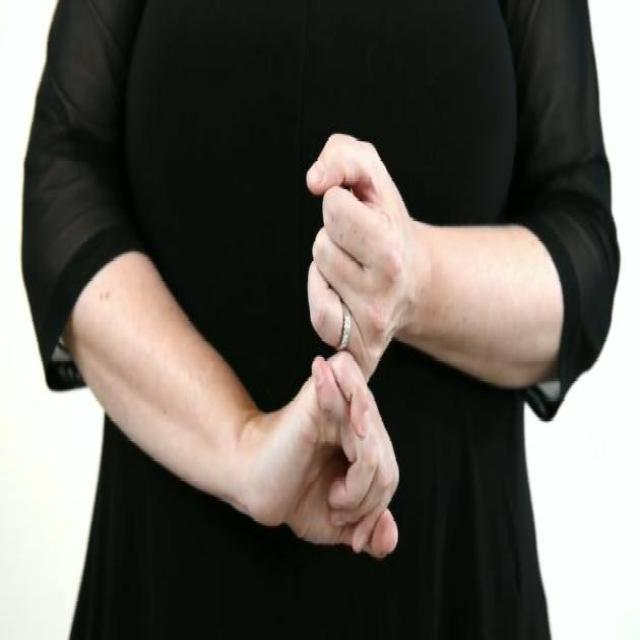S: (268, 130, 413, 565)
